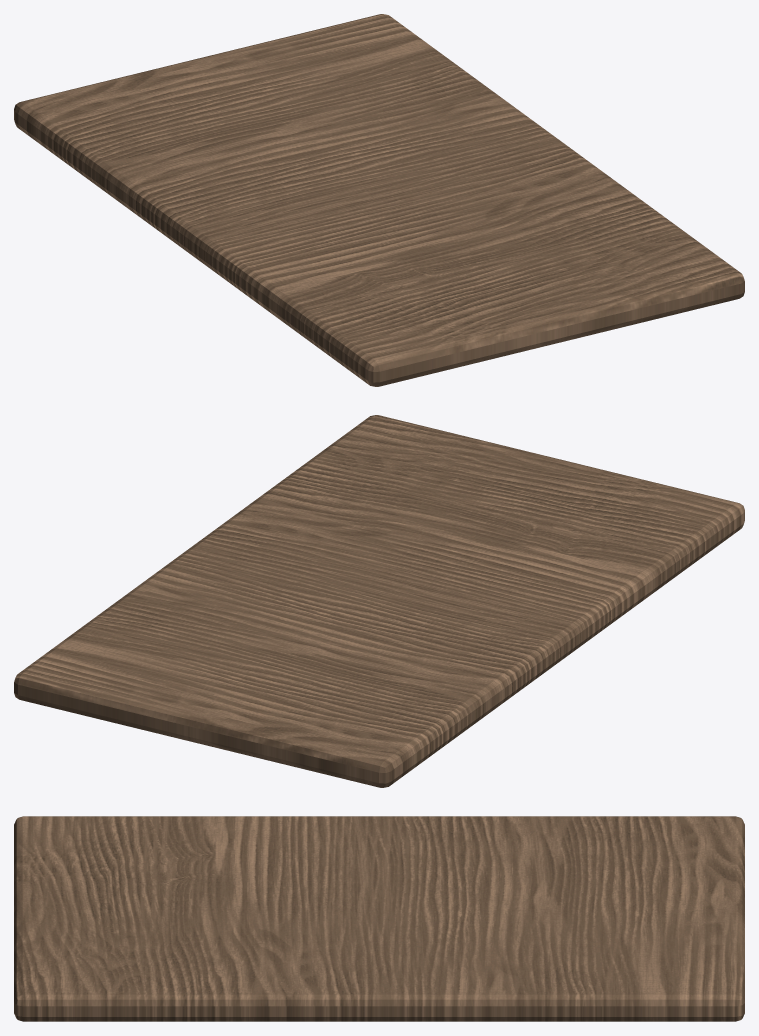
The model's file is cutting_board.glb.
The picture shows the model from 3 angles, top to bottom: view 1: azimuth 30°, elevation 25°; view 2: azimuth 150°, elevation 25°; view 3: azimuth 270°, elevation 25°; orthographic projection.
Visible parts, largest first — view 1: cutting_board; view 2: cutting_board; view 3: cutting_board.
Part boxes in pixels (box(x1,y1,x2,y2)): cutting_board: box(14, 14, 744, 386); cutting_board: box(14, 415, 744, 787); cutting_board: box(14, 816, 744, 1021).
Size of the model in its own units: 0.15 by 0.01 by 0.25.
Materials: 1 (1 with a texture image).
